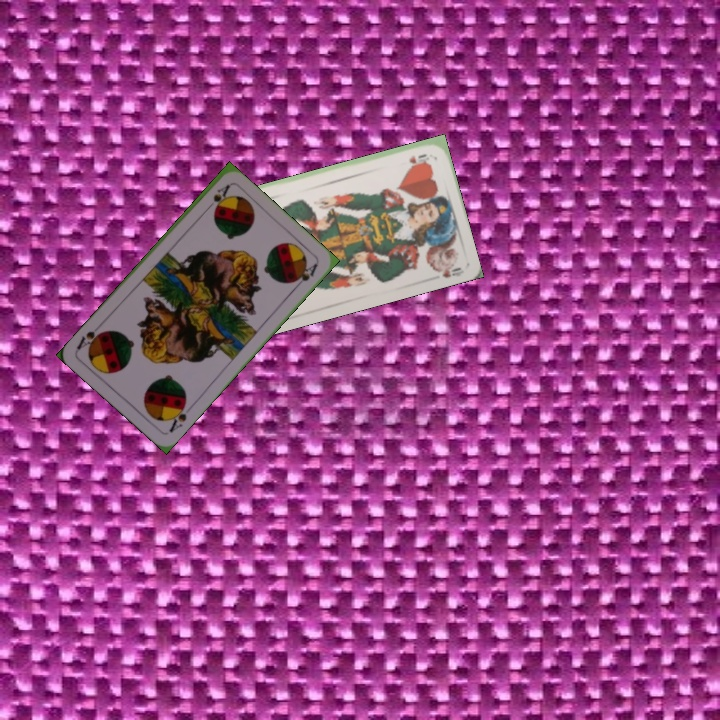HO: (405, 150, 432, 166)
SA: (201, 181, 232, 214), (164, 397, 189, 435)
